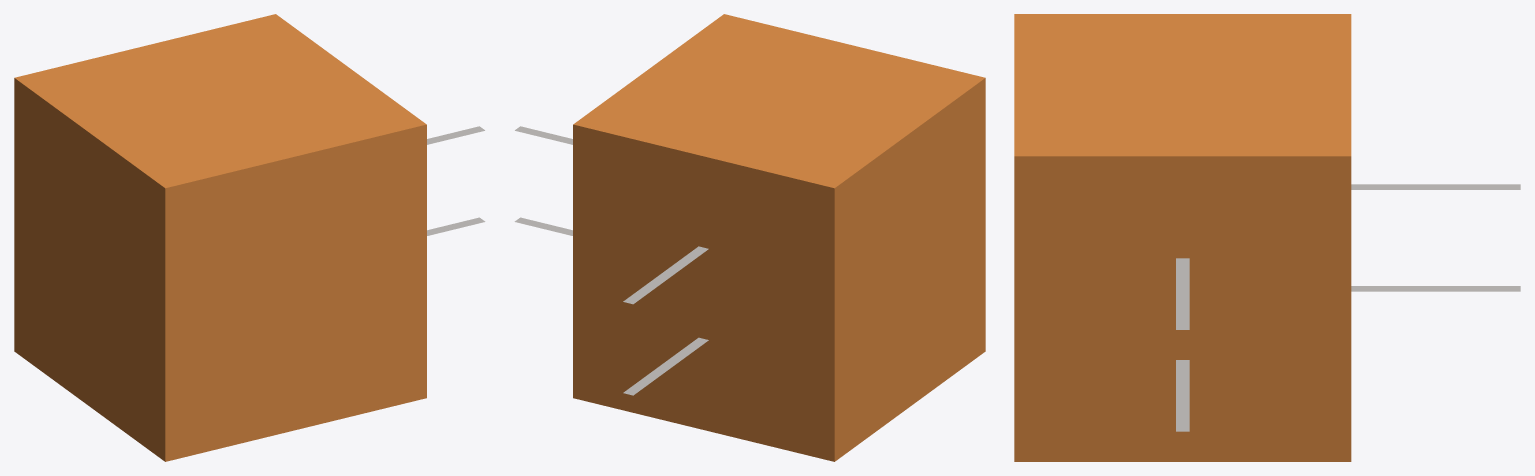
Rendered from block-brick.glb.
The picture shows the model from 3 angles, left to right: view 1: azimuth 30°, elevation 25°; view 2: azimuth 150°, elevation 25°; view 3: azimuth 270°, elevation 25°; orthographic projection. The views are drawn at different scales.
Visible parts, largest first — view 1: Mortar_y_66; view 2: Mortar_y_66; view 3: Mortar_y_66.
Boxes of the visible parts, x1=… form: Mortar_y_66: x1=14, y1=14, x2=485, y2=461; Mortar_y_66: x1=514, y1=14, x2=985, y2=461; Mortar_y_66: x1=1014, y1=14, x2=1520, y2=461.
Size of the model in its own units: 1.5 by 1 by 1.5.
